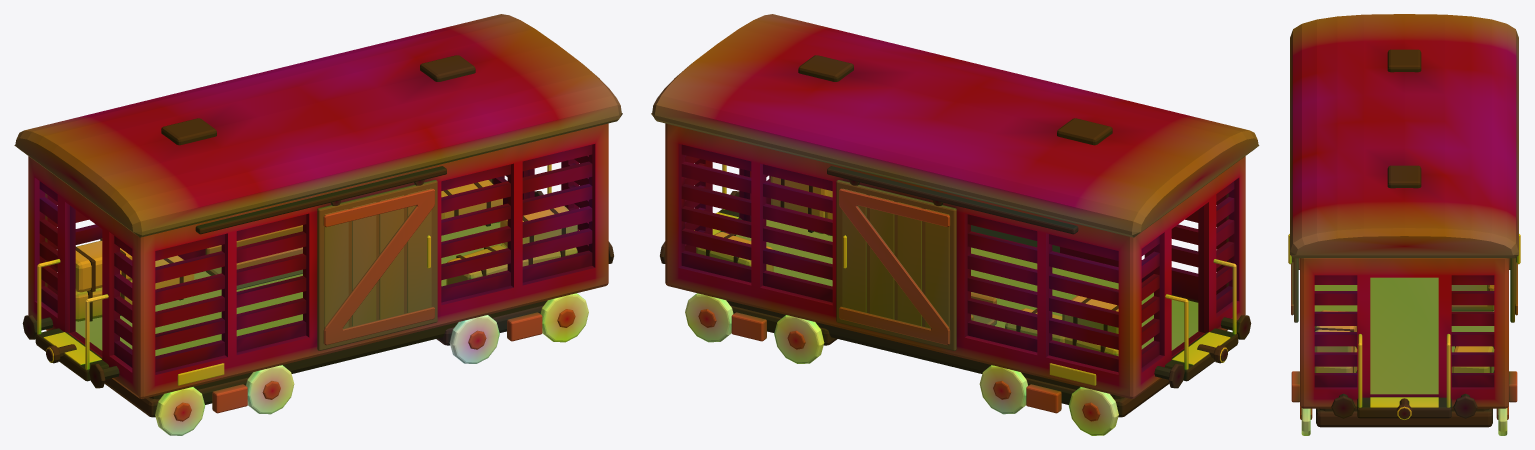
File: CattleWagon_Blockout.fbx
The picture shows the model from 3 angles, left to right: view 1: azimuth 30°, elevation 25°; view 2: azimuth 150°, elevation 25°; view 3: azimuth 270°, elevation 25°; orthographic projection. The views are drawn at different scales.
Parts seen in each view (by area): view 1: Roof, Walls, Cage, SlideDoor_Near, Underframe, Interior, Ends, DoorTracks; view 2: Roof, Walls, Cage, SlideDoor_Far, Underframe, Interior, Ends, DoorTracks; view 3: Roof, Cage, Interior, Walls, Underframe, Ends, SlideDoor_Near, SlideDoor_Far, Coupler_Front.
Part boxes in pixels (box(x1,y1,x2,y2)): Roof: box(14, 14, 622, 237); Walls: box(39, 144, 592, 372); Cage: box(28, 123, 608, 398); SlideDoor_Near: box(317, 180, 437, 350); Underframe: box(104, 293, 588, 435); Interior: box(75, 180, 577, 356); Ends: box(22, 164, 613, 388); DoorTracks: box(195, 166, 446, 234); Roof: box(651, 14, 1259, 237); Walls: box(681, 144, 1234, 372); Cage: box(665, 123, 1245, 398); SlideDoor_Far: box(836, 180, 956, 350); Underframe: box(685, 293, 1169, 435); Interior: box(696, 176, 1198, 356); Ends: box(660, 164, 1251, 388); DoorTracks: box(827, 166, 1078, 234); Roof: box(1290, 14, 1518, 258); Cage: box(1300, 258, 1508, 408); Interior: box(1314, 277, 1494, 394); Walls: box(1314, 275, 1494, 396); Underframe: box(1291, 258, 1517, 435); Ends: box(1331, 334, 1477, 418); SlideDoor_Near: box(1288, 234, 1298, 322); SlideDoor_Far: box(1510, 234, 1520, 322); Coupler_Front: box(1396, 398, 1412, 420).
Size of the model in its own units: 7.5 by 3.36 by 3.05.
